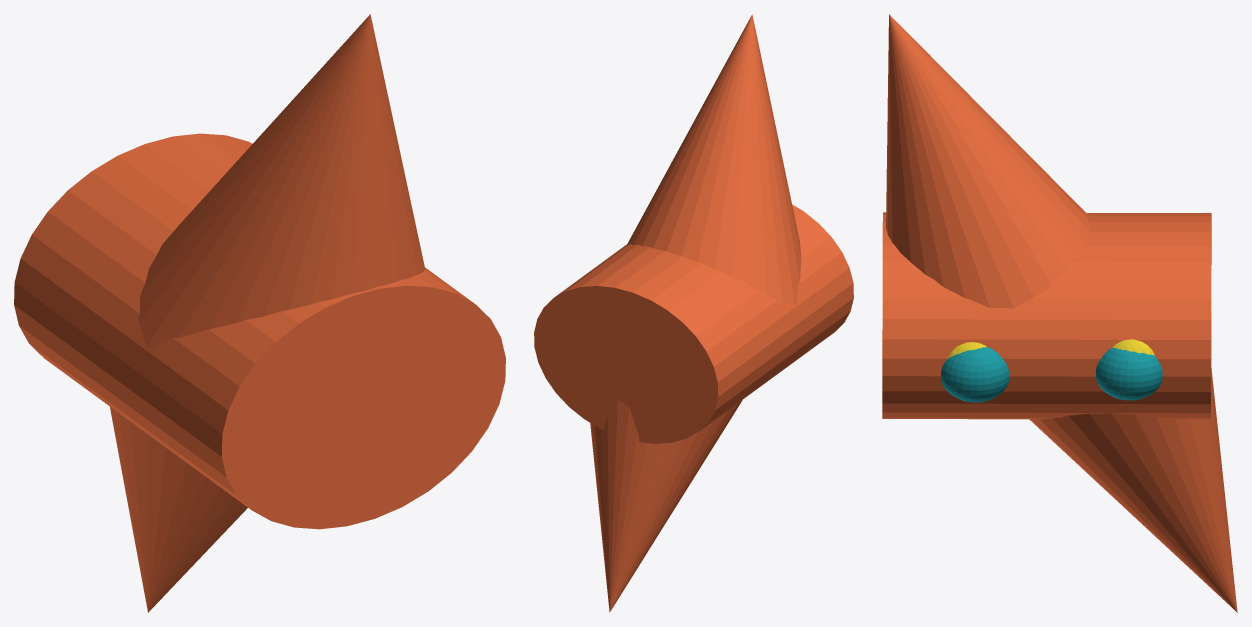
Rendered from energy.fbx.
The picture shows the model from 3 angles, left to right: view 1: azimuth 30°, elevation 25°; view 2: azimuth 150°, elevation 25°; view 3: azimuth 270°, elevation 25°; orthographic projection. The views are drawn at different scales.
Visible parts, largest first — view 1: Sphere.003; view 2: Sphere.003; view 3: Sphere.003.
Part boxes in pixels (x1,y1,x2,y2): Sphere.003: (14, 14, 505, 612); Sphere.003: (534, 14, 853, 612); Sphere.003: (882, 14, 1237, 612).
Size of the model in its own units: 93.95 by 222 by 119.
